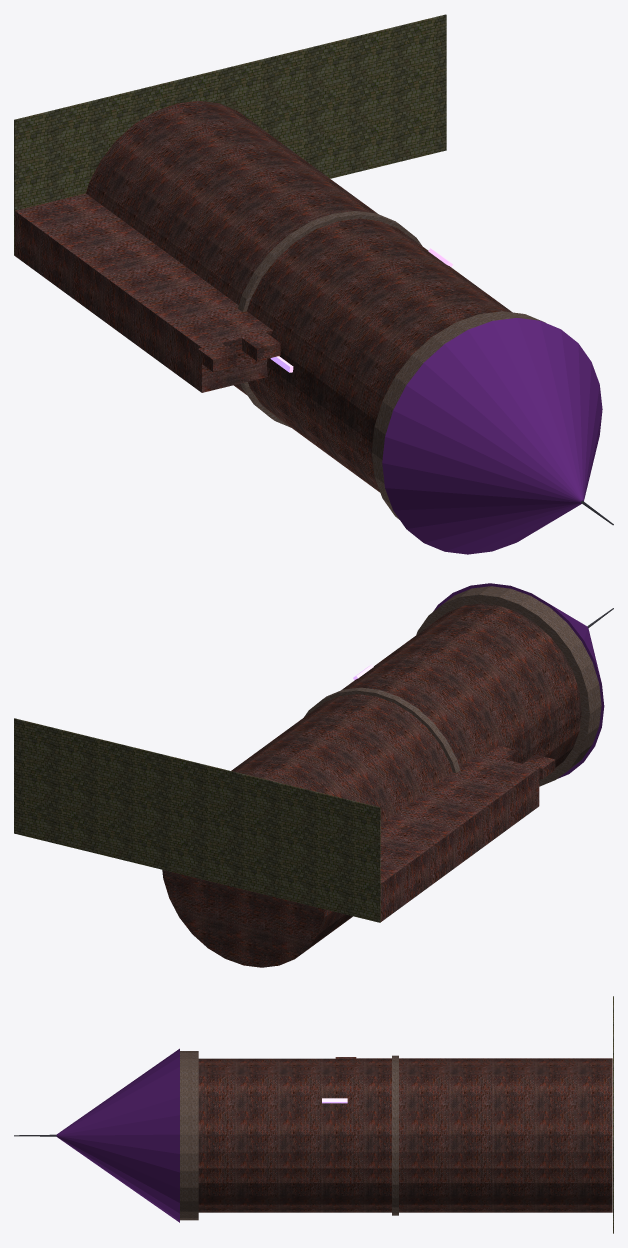
File: keep_t4_5.gltf
3 views of the same model, one above another, from view 1: azimuth 30°, elevation 25°; view 2: azimuth 150°, elevation 25°; view 3: azimuth 270°, elevation 25° (orthographic). The views are drawn at different scales.
Visible parts, largest first — view 1: keep_t4_5_wallg_out, keep_t4_5_banner_p, keep_t4_5_ground, keep_t4_5_wallg, keep_t4_5_stone; view 2: keep_t4_5_wallg_out, keep_t4_5_ground, keep_t4_5_wallg, keep_t4_5_stone, keep_t4_5_banner_p; view 3: keep_t4_5_wallg_out, keep_t4_5_banner_p, keep_t4_5_stone.
Boxes of the visible parts, left/top/right/bottom form: keep_t4_5_wallg_out: left=86, top=101, right=512, bottom=492; keep_t4_5_banner_p: left=382, top=318, right=602, bottom=554; keep_t4_5_ground: left=14, top=14, right=446, bottom=255; keep_t4_5_wallg: left=15, top=193, right=280, bottom=392; keep_t4_5_stone: left=238, top=211, right=545, bottom=519; keep_t4_5_wallg_out: left=162, top=603, right=581, bottom=967; keep_t4_5_ground: left=14, top=718, right=380, bottom=922; keep_t4_5_wallg: left=380, top=745, right=555, bottom=921; keep_t4_5_stone: left=304, top=586, right=601, bottom=786; keep_t4_5_banner_p: left=433, top=583, right=604, bottom=778; keep_t4_5_wallg_out: left=198, top=1058, right=612, bottom=1212; keep_t4_5_banner_p: left=56, top=1048, right=179, bottom=1222; keep_t4_5_stone: left=180, top=1051, right=398, bottom=1220.
Bounding box in the file's own units: 40.37 × 21.2 × 70.14.
Materials: 7 (4 with a texture image).
